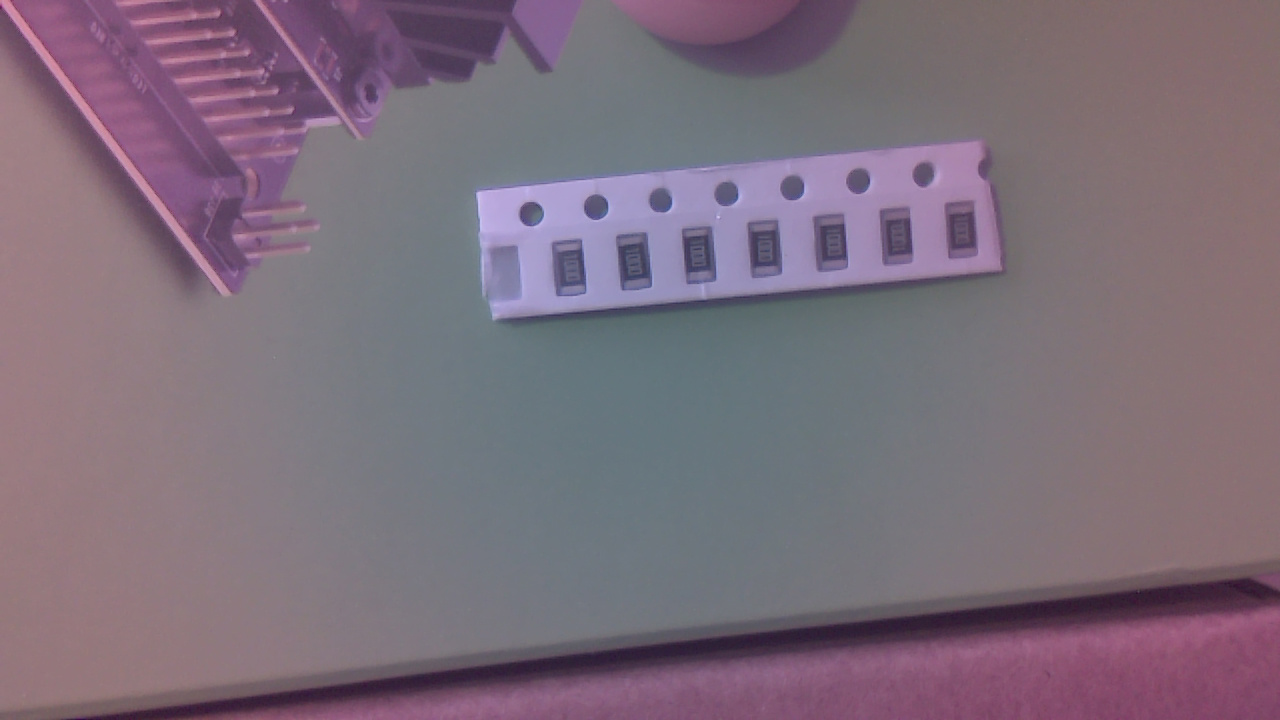Resistor: (556, 239, 596, 304), (689, 230, 727, 294), (754, 222, 791, 287), (950, 204, 985, 267), (622, 236, 659, 295), (820, 220, 856, 279), (886, 214, 921, 272)
